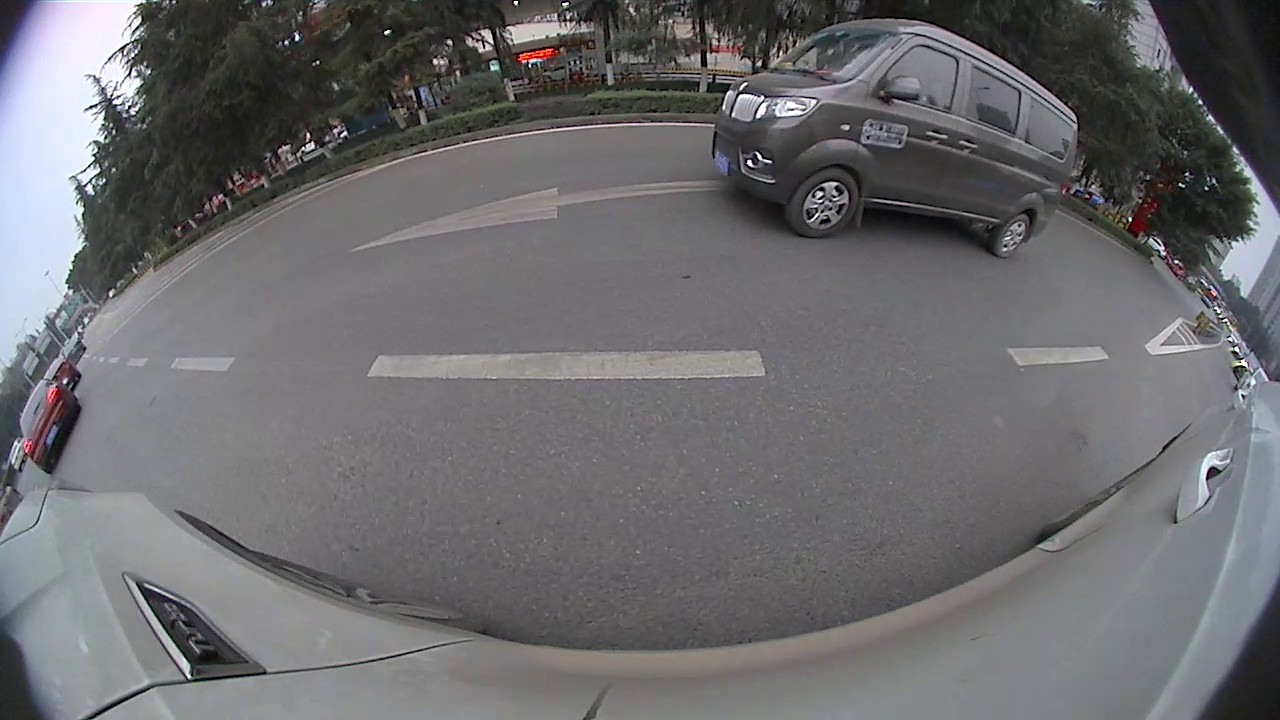car: (714, 18, 1083, 261), (16, 383, 83, 477)
front: (785, 163, 864, 241)
rear: (991, 211, 1034, 261)
